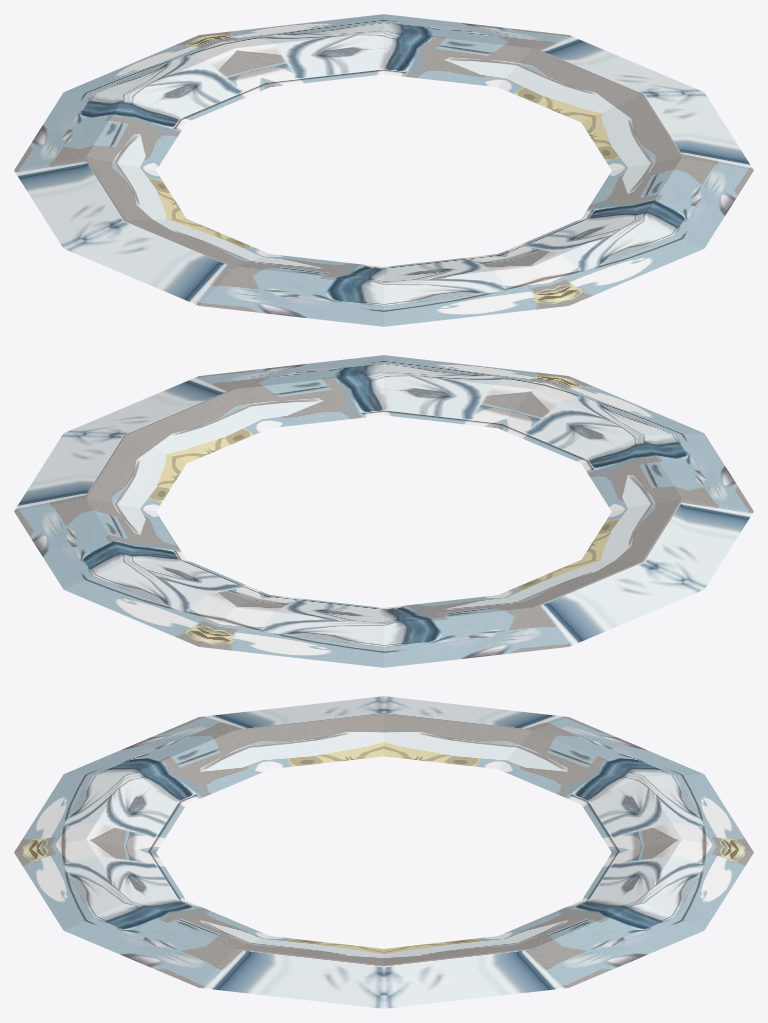
Rendered from Penguin_halo.obj.
The picture shows the model from 3 angles, top to bottom: view 1: azimuth 30°, elevation 25°; view 2: azimuth 150°, elevation 25°; view 3: azimuth 270°, elevation 25°; orthographic projection.
Parts seen in each view (by area): view 1: Penguin_halo_tri; view 2: Penguin_halo_tri; view 3: Penguin_halo_tri.
Boxes of the visible parts, <box> form: Penguin_halo_tri: <box>14,14,753,326</box>; Penguin_halo_tri: <box>14,355,753,667</box>; Penguin_halo_tri: <box>14,696,753,1008</box>.
Size of the model in its own units: 0.2286 by 0.00898 by 0.2286.
1 material, 1 textured.
